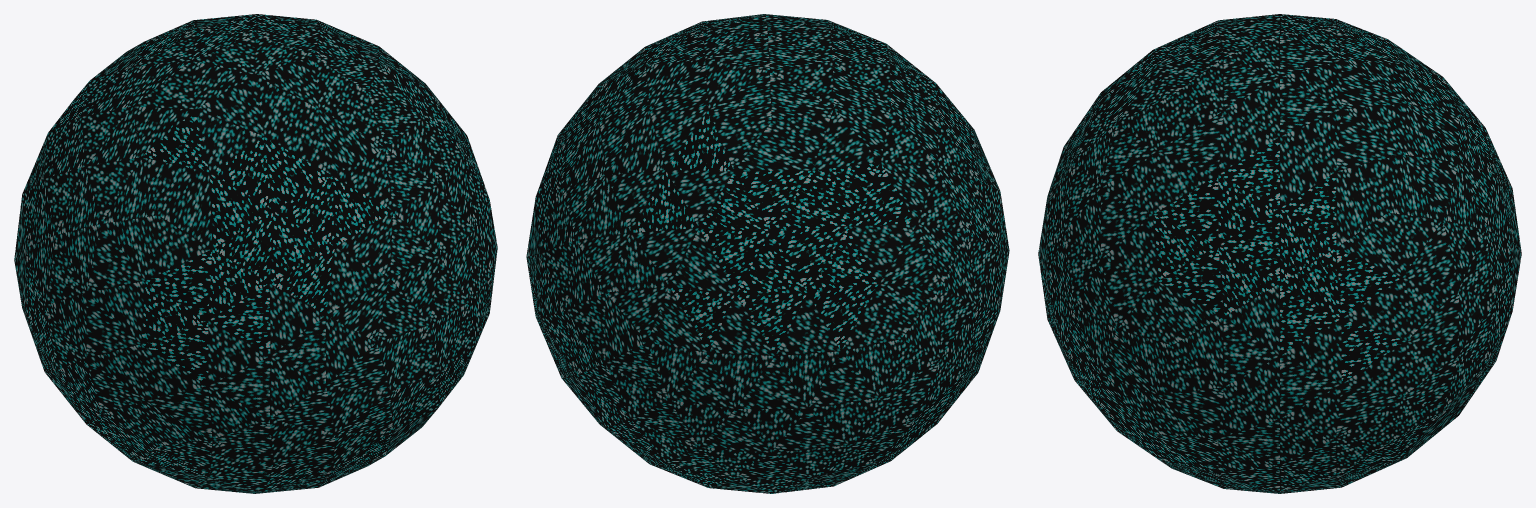
The model's file is geo_sphere_tex_3db.gltf.
The picture shows the model from 3 angles, left to right: view 1: azimuth 30°, elevation 25°; view 2: azimuth 150°, elevation 25°; view 3: azimuth 270°, elevation 25°; orthographic projection.
Visible parts, largest first — view 1: geo_sphere_tex.3db; view 2: geo_sphere_tex.3db; view 3: geo_sphere_tex.3db.
Boxes of the visible parts, x1=… form: geo_sphere_tex.3db: x1=14, y1=14, x2=497, y2=493; geo_sphere_tex.3db: x1=526, y1=14, x2=1009, y2=493; geo_sphere_tex.3db: x1=1038, y1=14, x2=1521, y2=493.
Size of the model in its own units: 0.02 by 0.02 by 0.02.
Materials: 1 (1 with a texture image).
